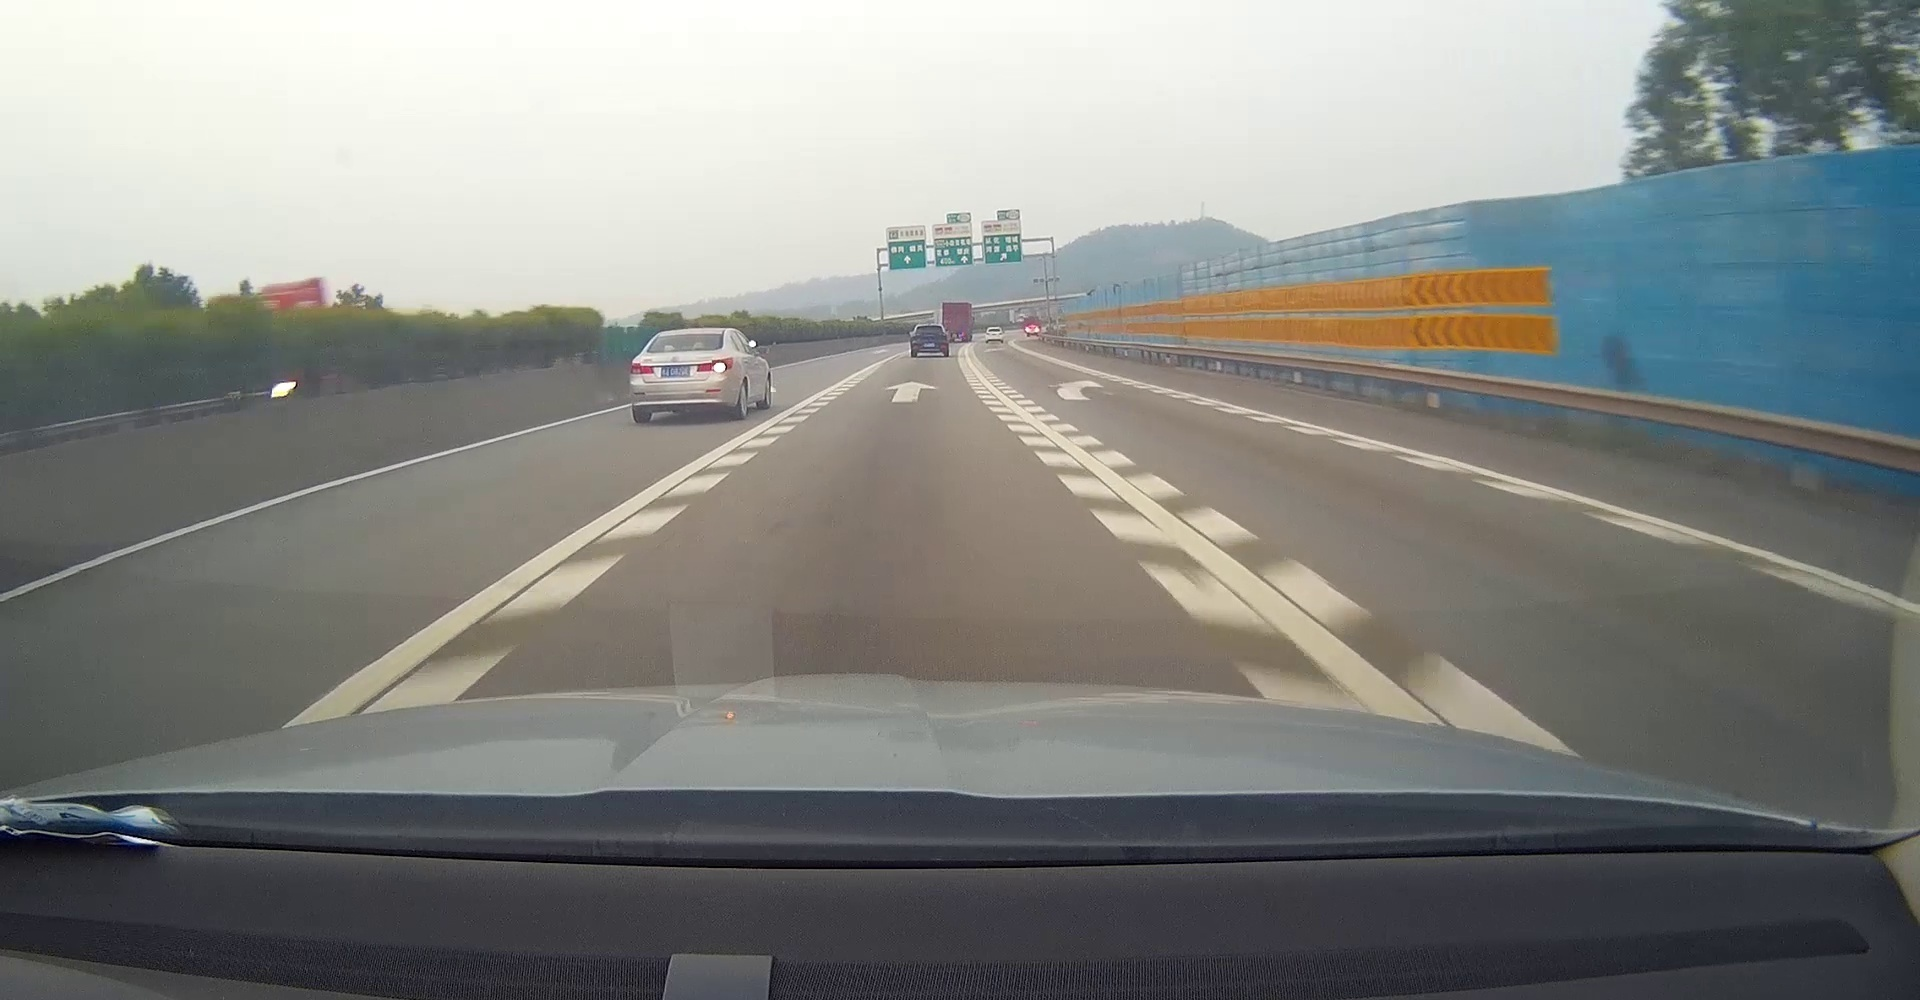L_light: (630, 360, 654, 376)
R_light: (696, 357, 733, 372)
T_light: (674, 349, 692, 352)
day-right: (630, 327, 735, 423)
